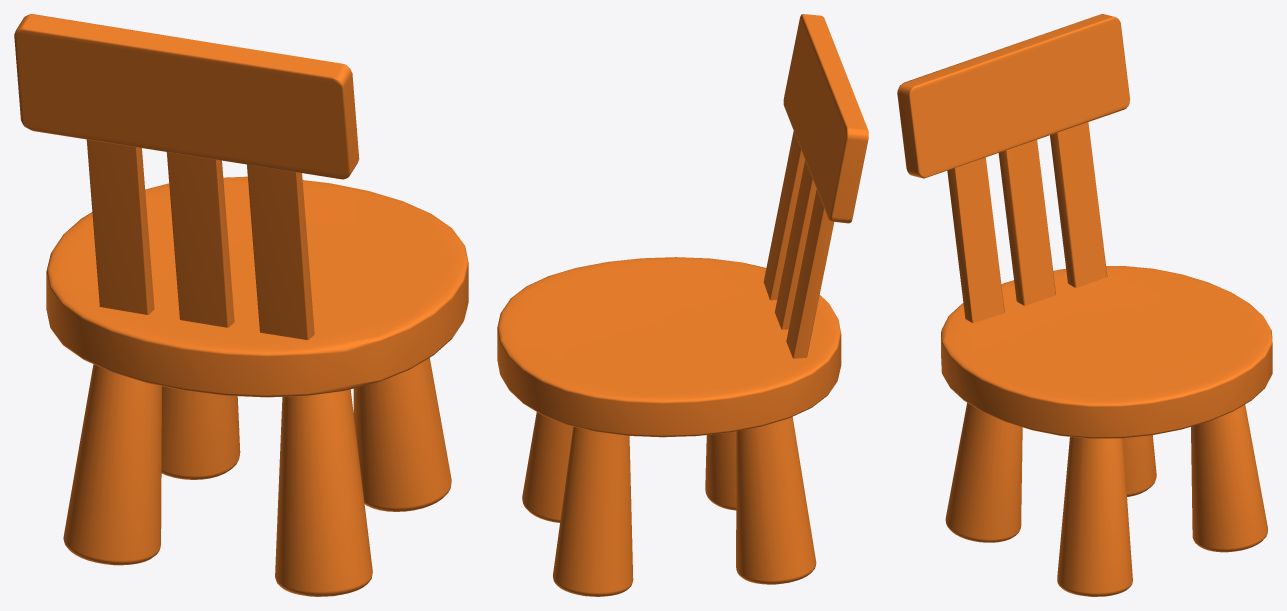
Rendered from sedia_arancio_LOD1.fbx.
3 views of the same model, side by side, from view 1: azimuth 30°, elevation 25°; view 2: azimuth 150°, elevation 25°; view 3: azimuth 270°, elevation 25° (orthographic). The views are drawn at different scales.
Parts seen in each view (by area): view 1: sedia_arancio; view 2: sedia_arancio; view 3: sedia_arancio.
Boxes of the visible parts, x1,y1,x2,y2 form: sedia_arancio: (14, 14, 468, 596); sedia_arancio: (497, 14, 868, 596); sedia_arancio: (897, 14, 1272, 596).
Bounding box in the file's own units: 174 × 219 × 171.
